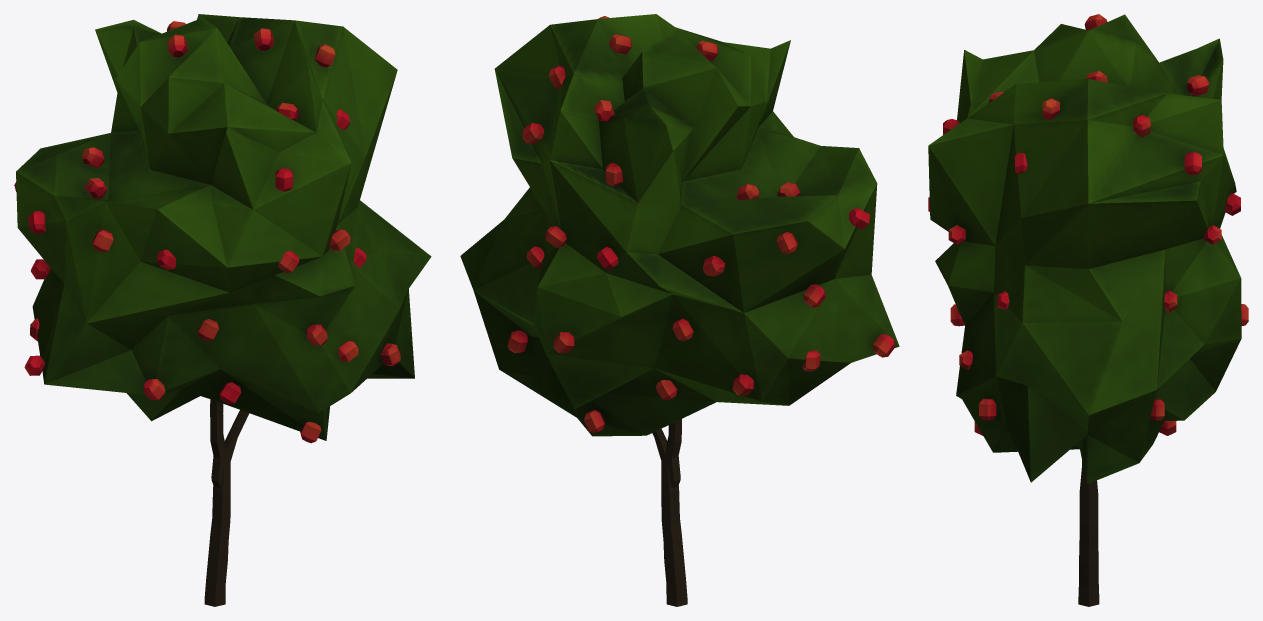
The model's file is apple.glb.
3 renders of one model, left to right at view 1: azimuth 30°, elevation 25°; view 2: azimuth 150°, elevation 25°; view 3: azimuth 270°, elevation 25°, orthographic.
Parts seen in each view (by area): view 1: node-0; view 2: node-0; view 3: node-0.
Boxes of the visible parts, left/top/right/bottom form: node-0: left=14, top=14, right=431, bottom=606; node-0: left=460, top=14, right=899, bottom=606; node-0: left=928, top=14, right=1248, bottom=606.
Bounding box in the file's own units: 10.83 × 14.15 × 7.18.
1 material, 1 textured.
